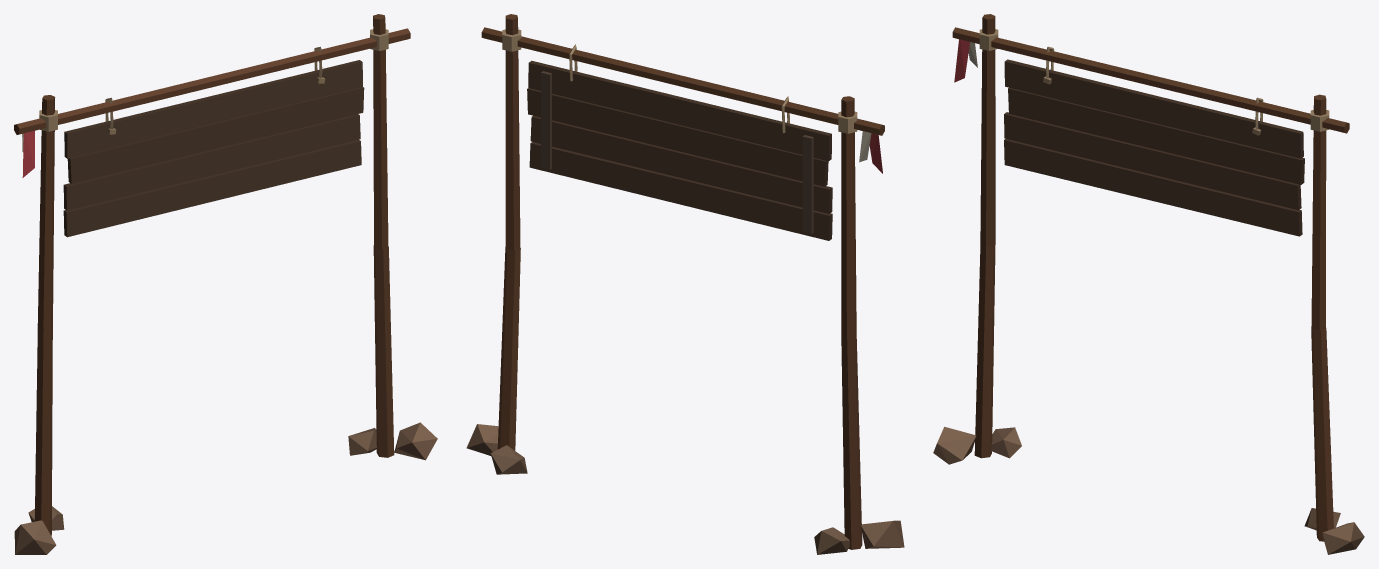
Rendered from tl_sign_stall_v01.glb.
3 views of the same model, side by side, from view 1: azimuth 30°, elevation 25°; view 2: azimuth 150°, elevation 25°; view 3: azimuth 330°, elevation 25° (orthographic).
Visible parts, largest first — view 1: tl_sign_stall_v01; view 2: tl_sign_stall_v01; view 3: tl_sign_stall_v01.
Part boxes in pixels (box(x1,y1,x2,y2)): tl_sign_stall_v01: box(14, 14, 437, 554); tl_sign_stall_v01: box(466, 14, 904, 554); tl_sign_stall_v01: box(933, 14, 1364, 554).
Size of the model in its own units: 3.33 by 3.32 by 0.5186.
